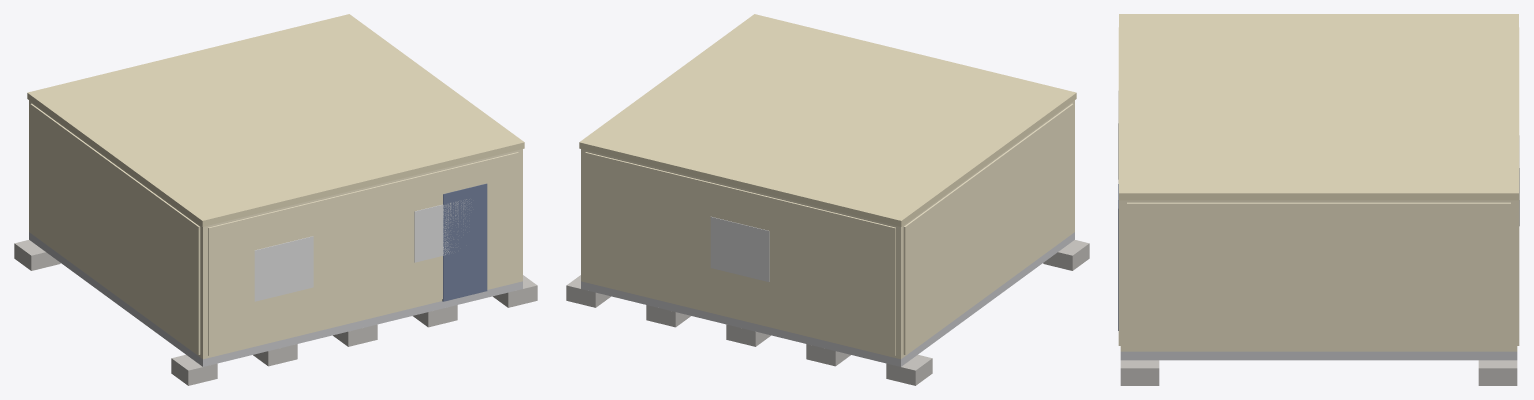
The model's file is Studio-20-Base-RiceYellow-LOD1.glb.
3 views of the same model, side by side, from view 1: azimuth 30°, elevation 25°; view 2: azimuth 150°, elevation 25°; view 3: azimuth 270°, elevation 25° (orthographic). The views are drawn at different scales.
Visible parts, largest first — view 1: RoofMain, ExteriorPanelsStandard, WindowsStandard, EntryDoor, FoundationBlocks, BaseFrame, ExteriorShell; view 2: ExteriorPanelsStandard, RoofMain, FoundationBlocks, BaseFrame, ExteriorShell, WindowsStandard; view 3: RoofMain, ExteriorPanelsStandard, ExteriorShell, BaseFrame, FoundationBlocks.
Part boxes in pixels (x1,y1,x2,y2): RoofMain: (27,14,524,226); ExteriorPanelsStandard: (30,103,518,355); WindowsStandard: (254,199,471,301); EntryDoor: (442,183,487,301); FoundationBlocks: (14,240,537,385); BaseFrame: (29,232,522,366); ExteriorShell: (29,100,522,359); ExteriorPanelsStandard: (585,103,1073,355); RoofMain: (579,14,1076,226); FoundationBlocks: (566,240,1089,385); BaseFrame: (581,232,1074,366); ExteriorShell: (581,100,1074,359); WindowsStandard: (710,216,769,281); RoofMain: (1119,14,1518,200); ExteriorPanelsStandard: (1118,27,1519,349); ExteriorShell: (1120,200,1517,351); BaseFrame: (1120,351,1517,360); FoundationBlocks: (1120,360,1517,385).
Bounding box in the file's own units: 7.14 × 3.17 × 6.24.
